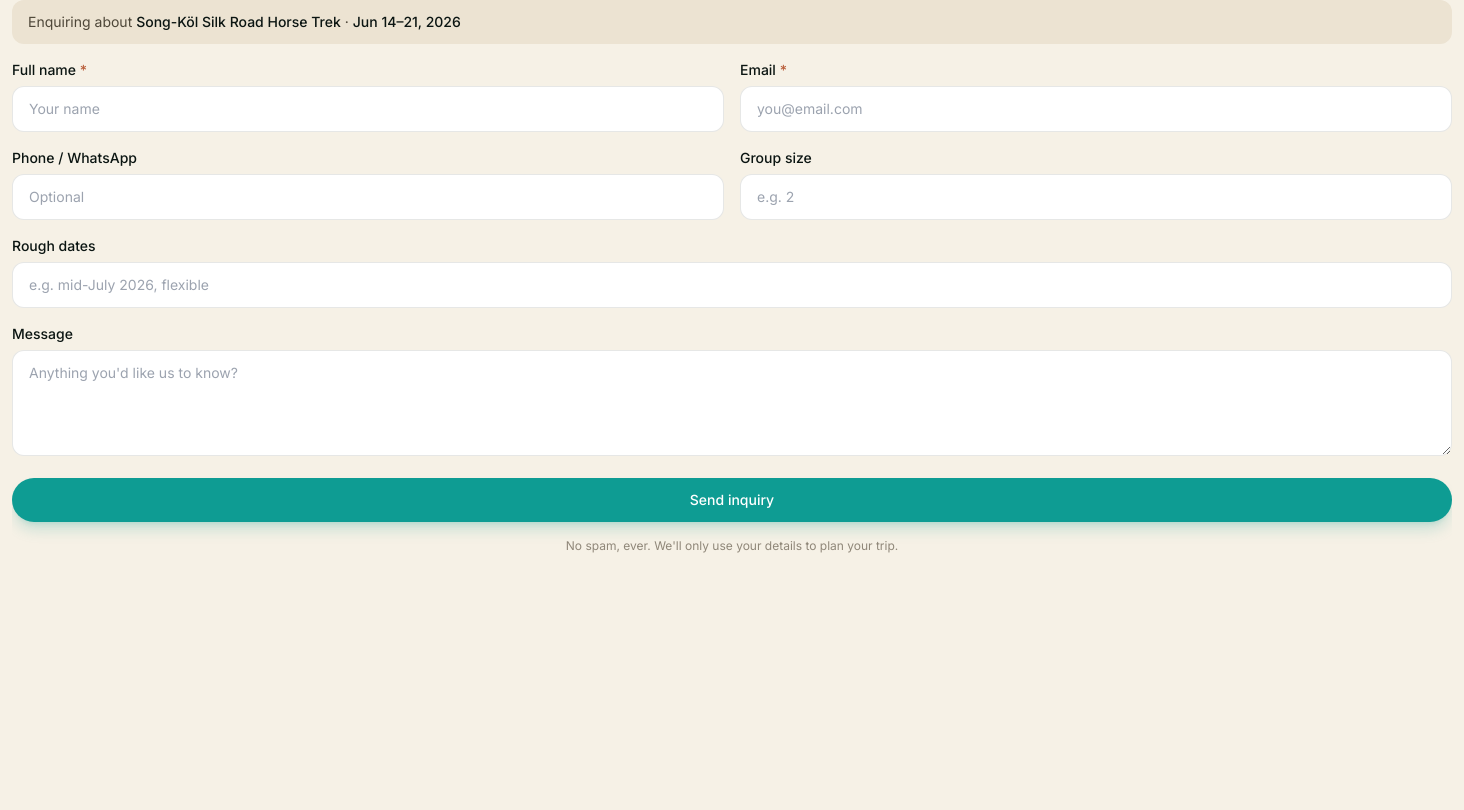
Test: InquiryForm › posts an inquiry to the API and shows the success state
Type "Sofia R." into the field labelled "Full name *". click: (368, 109)
box: [12, 86, 724, 132]
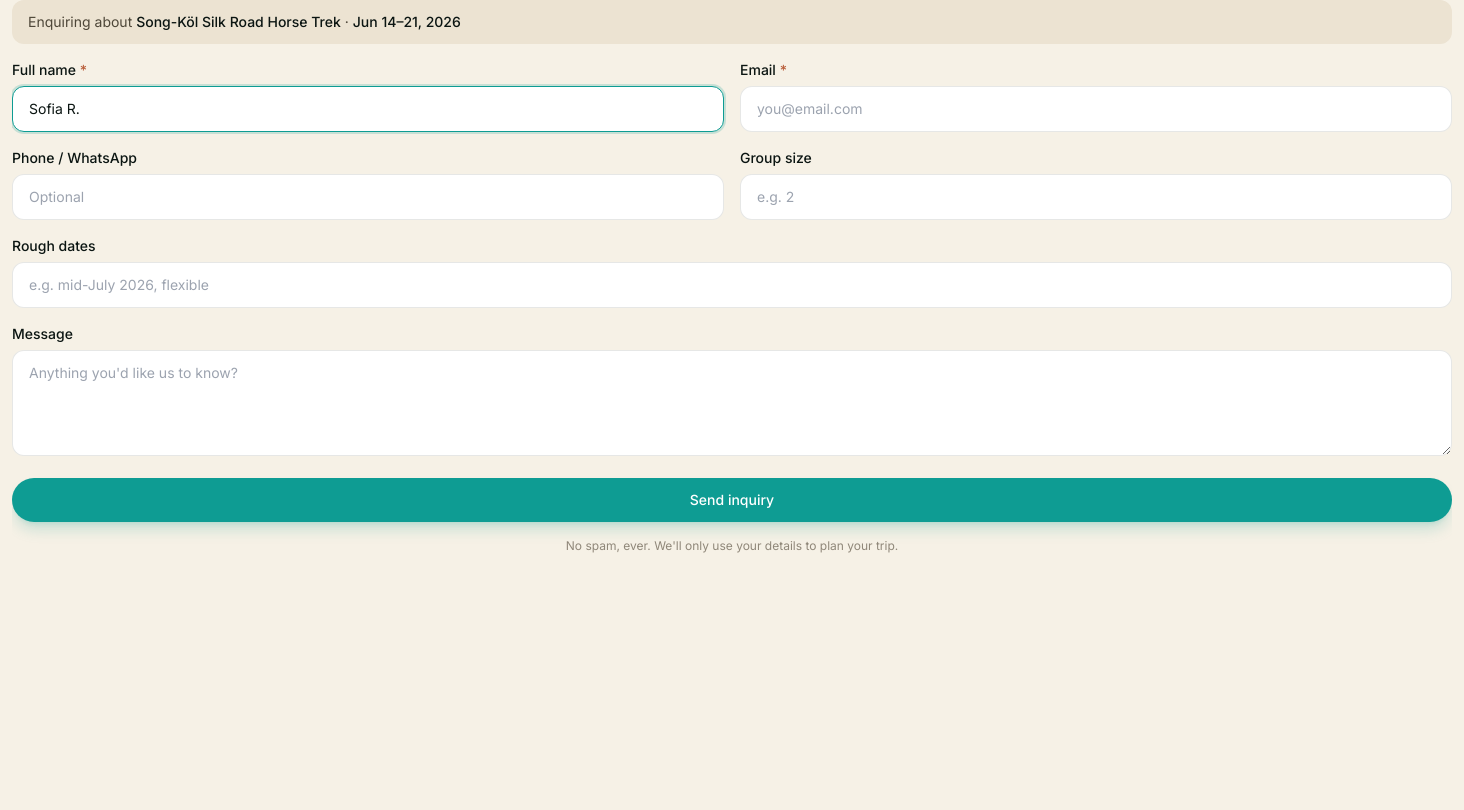
Type "sofia@example.com" into the field labelled "Email *". click: (1096, 109)
box: [740, 86, 1452, 132]
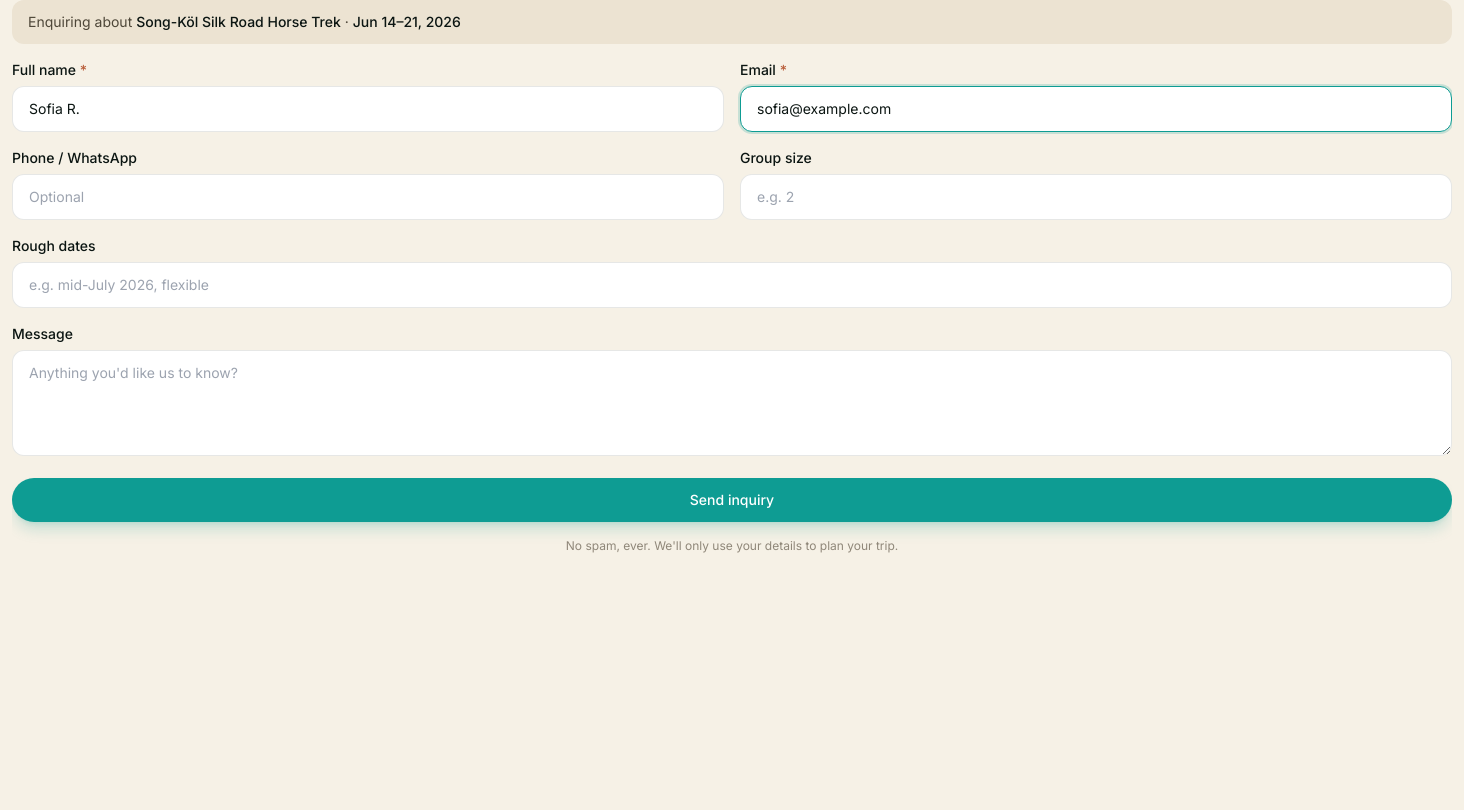
Type "Is the June departure still open?" into the text box labelled "Message". click: (732, 403)
box: [12, 350, 1452, 456]
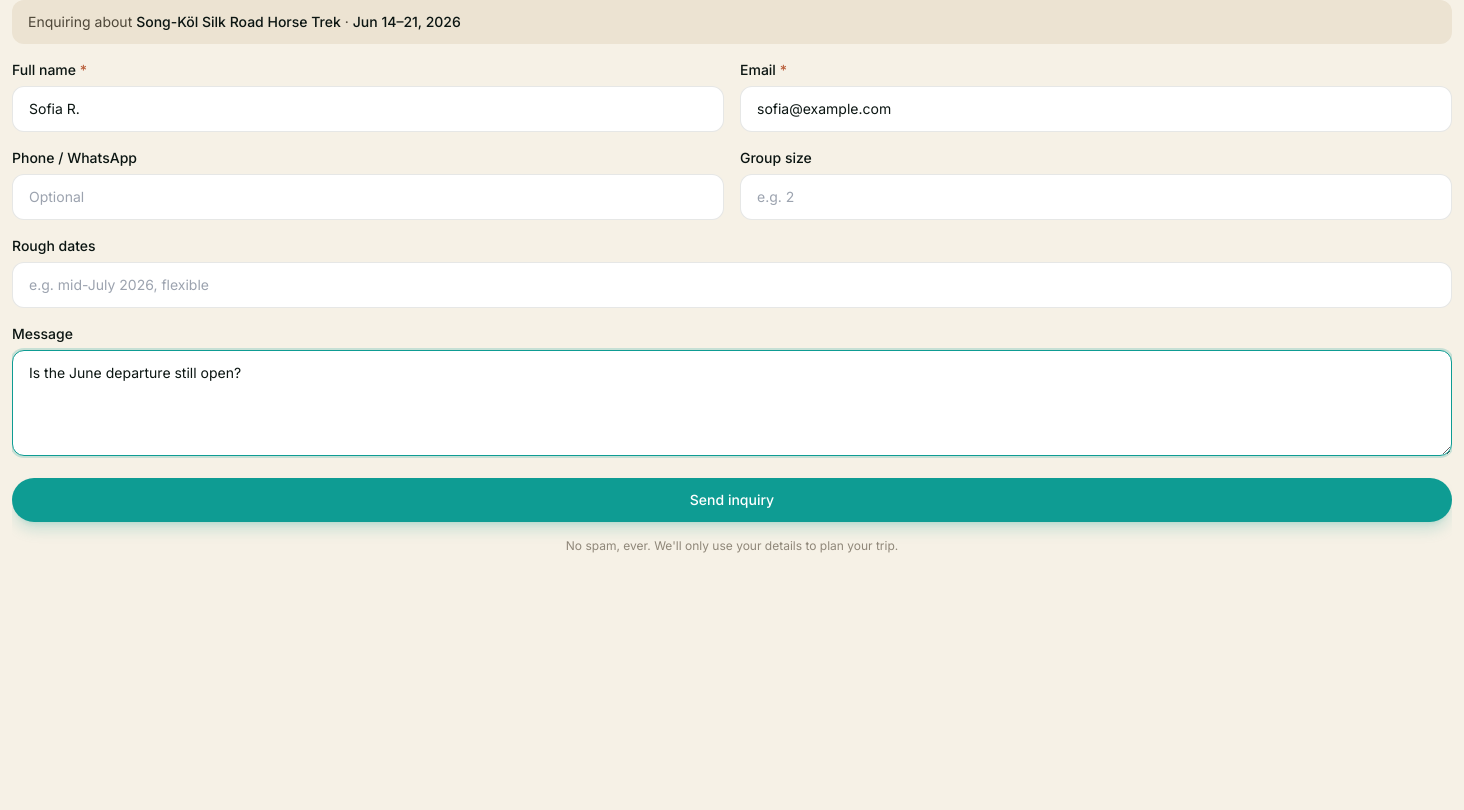
Click the button "Send inquiry". click: (732, 500)
box: [12, 478, 1452, 522]
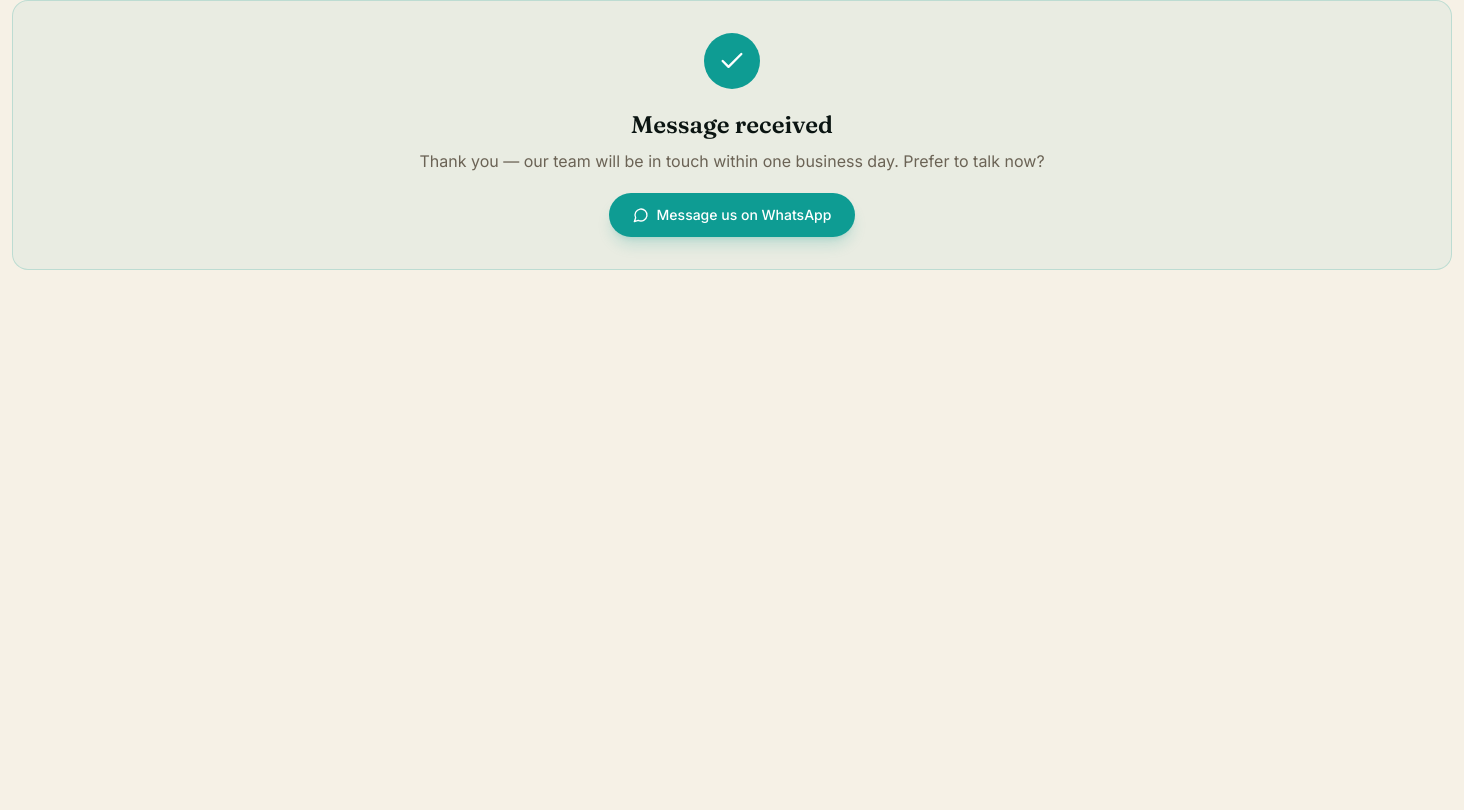
Expected: the heading "Message received" is shown, [631, 110, 833, 139]
